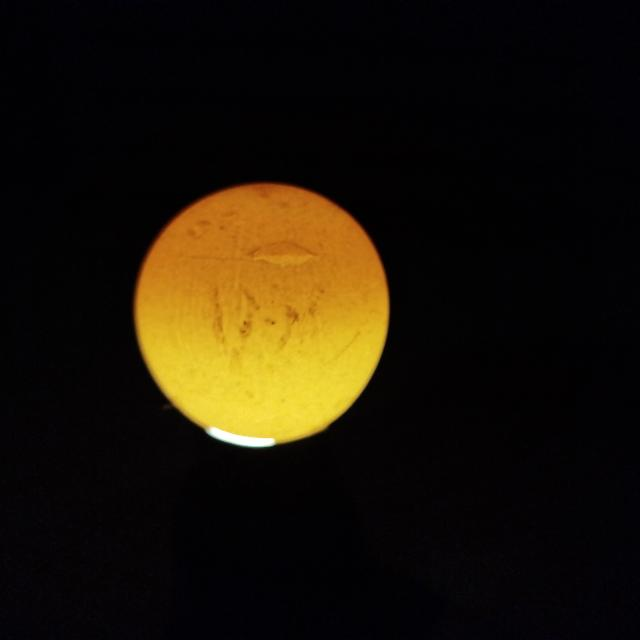Rachadura: (252, 241, 317, 267)
